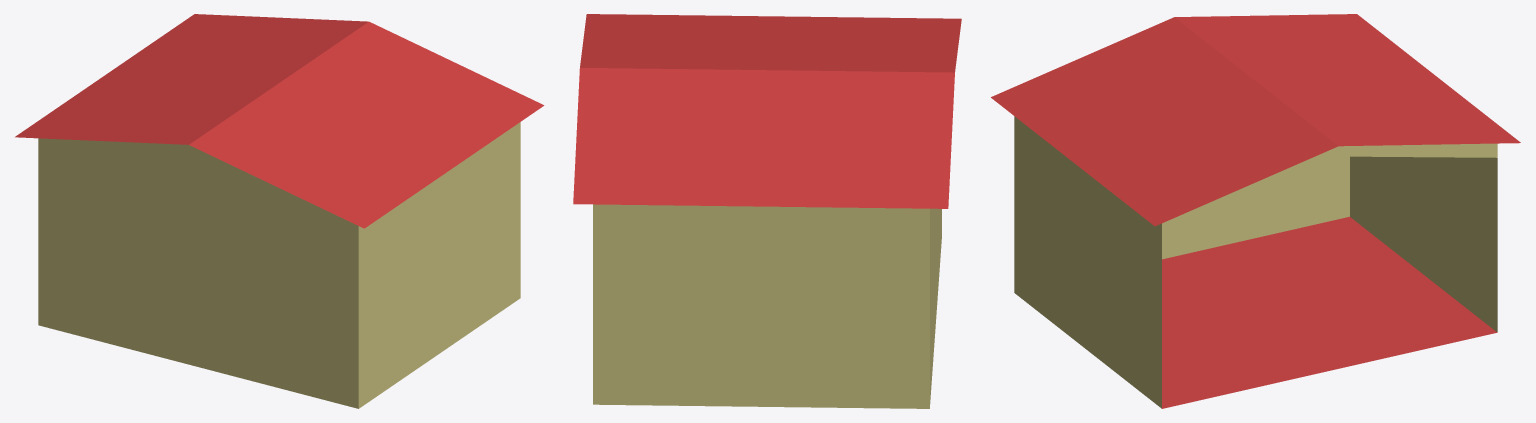
3 renders of one model, left to right at view 1: azimuth 30°, elevation 25°; view 2: azimuth 150°, elevation 25°; view 3: azimuth 270°, elevation 25°, orthographic. The views are drawn at different scales.
Size of the model in its own units: 21.35 by 22.55 by 10.83.
